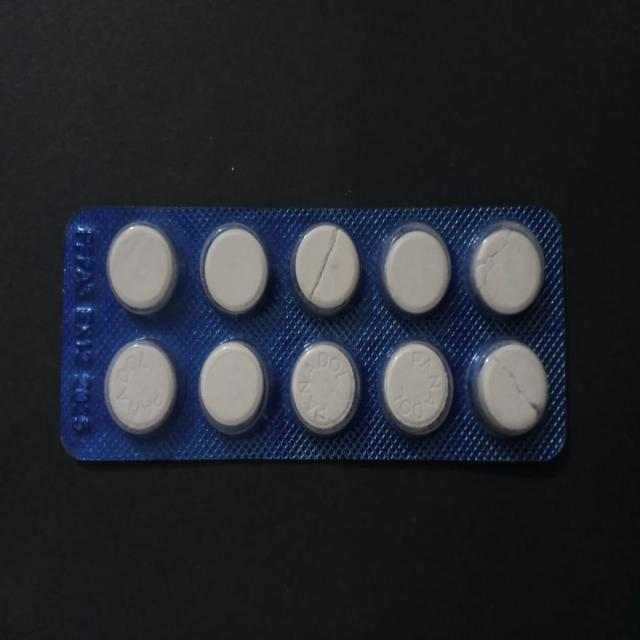defect: (468, 339, 550, 439), (289, 220, 364, 316), (471, 222, 545, 319)
